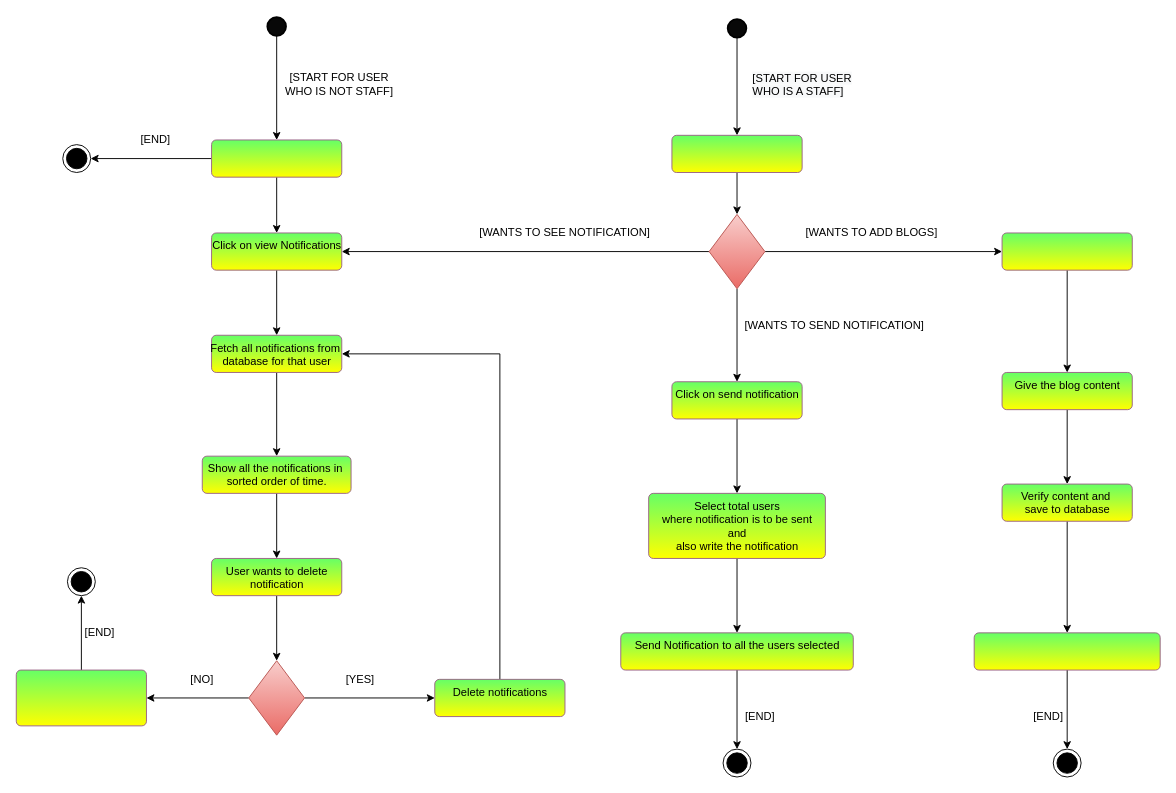
The diagram is 1176 pixels wide and 793 high, and some of its shapes have lost their labels. The shapes that lost their labels are listed below. From the top down, each one's centre as x and y in pixels, then its label:
At point 276,158: "Normal user Dashboard".
At point 736,153: "Staff Dashboard".
At point 1066,251: "Click to add blogs".
At point 1066,651: "Display new blog at the homepage".
At point 80,697: "Can see notifications or got to dashboard".
